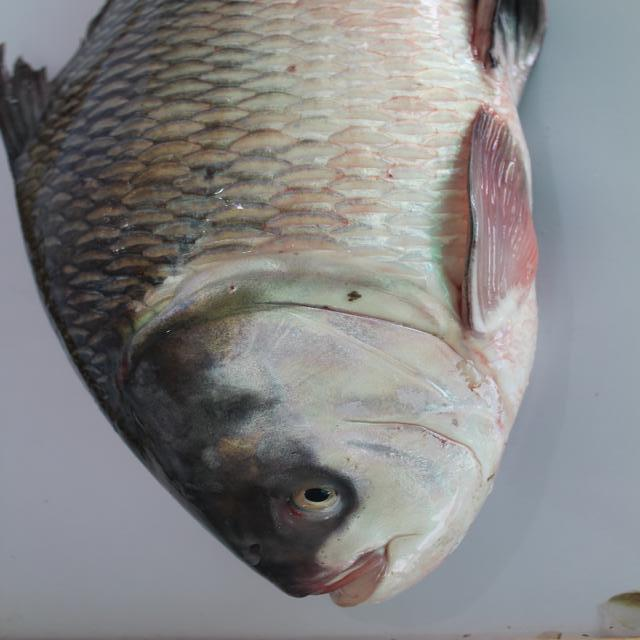Catla: (1, 1, 561, 595)
